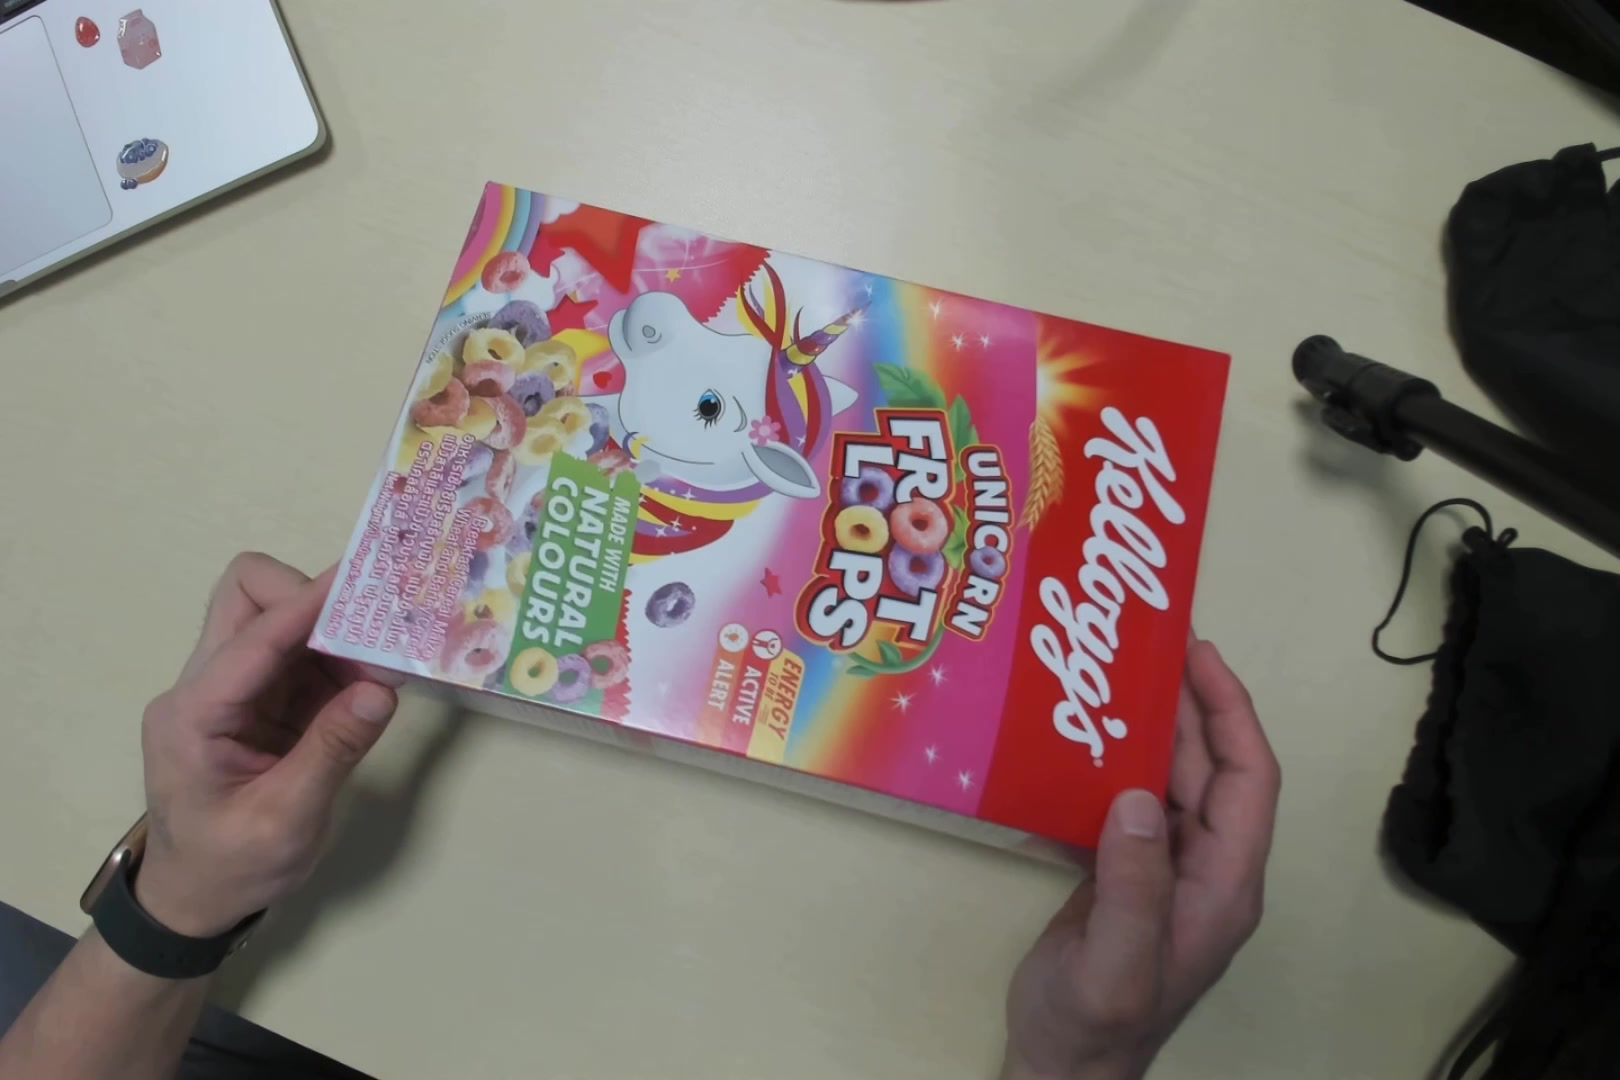BreakfastCereals_200-299g_Halal_NonHealthy: (321, 186, 1201, 777)
